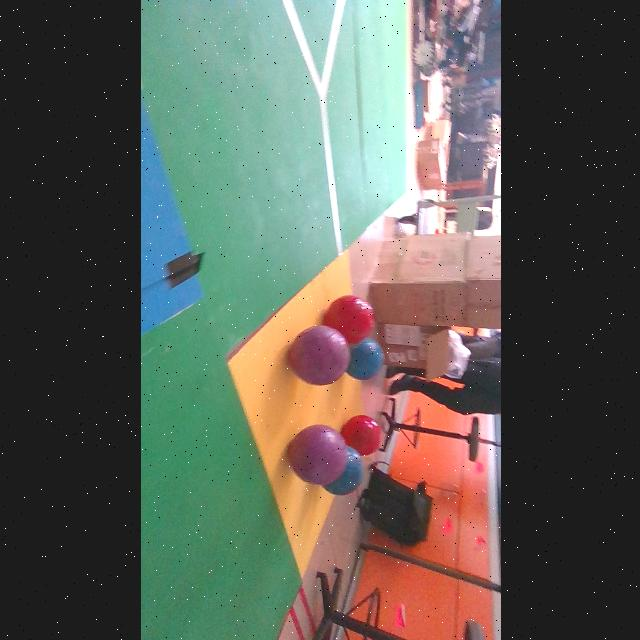B: (323, 447, 362, 495), (346, 338, 382, 380)
P: (287, 325, 349, 385), (287, 424, 347, 486)
R: (323, 295, 374, 345), (341, 415, 379, 456)
